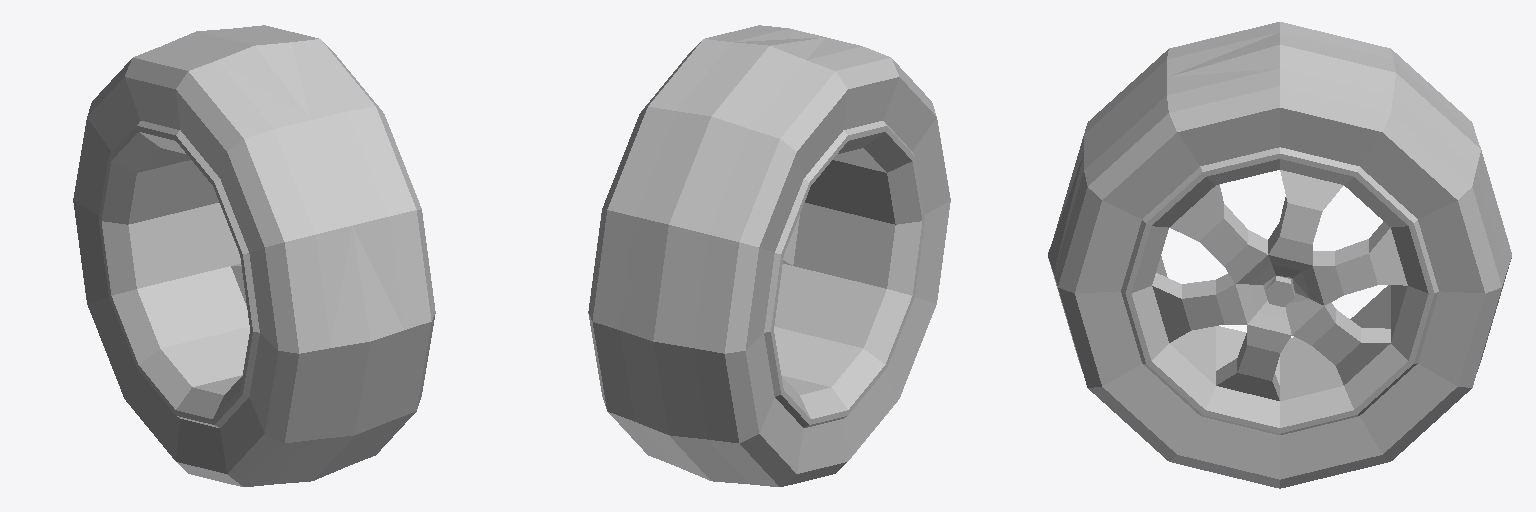
The model's file is wheel.obj.
3 views of the same model, side by side, from view 1: azimuth 30°, elevation 25°; view 2: azimuth 150°, elevation 25°; view 3: azimuth 270°, elevation 25° (orthographic).
Visible parts, largest first — view 1: 1365_Tire; view 2: 1365_Tire; view 3: 1365_Tire.
Boxes of the visible parts, box(x1,y1,x2,y2) form: 1365_Tire: box(73, 25, 435, 486); 1365_Tire: box(588, 25, 950, 486); 1365_Tire: box(1048, 22, 1511, 488).
Bounding box in the file's own units: 0.3258 × 0.8181 × 0.8181.